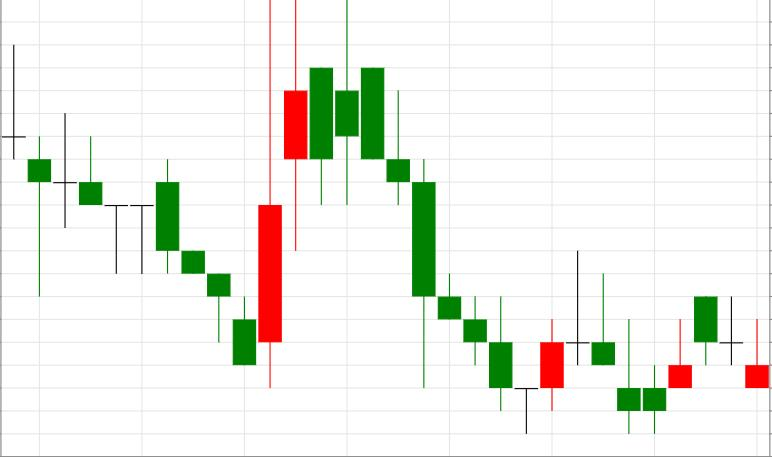bullish_engulfing_rise: (2, 0, 281, 388)
morning_star_rise: (336, 0, 563, 434)
